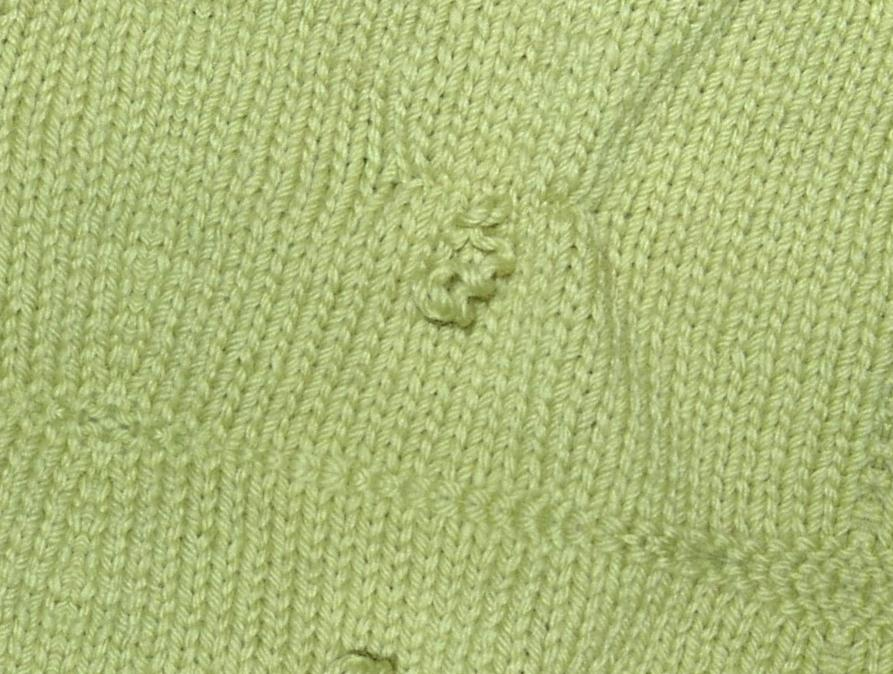knot: (406, 189, 523, 344)
